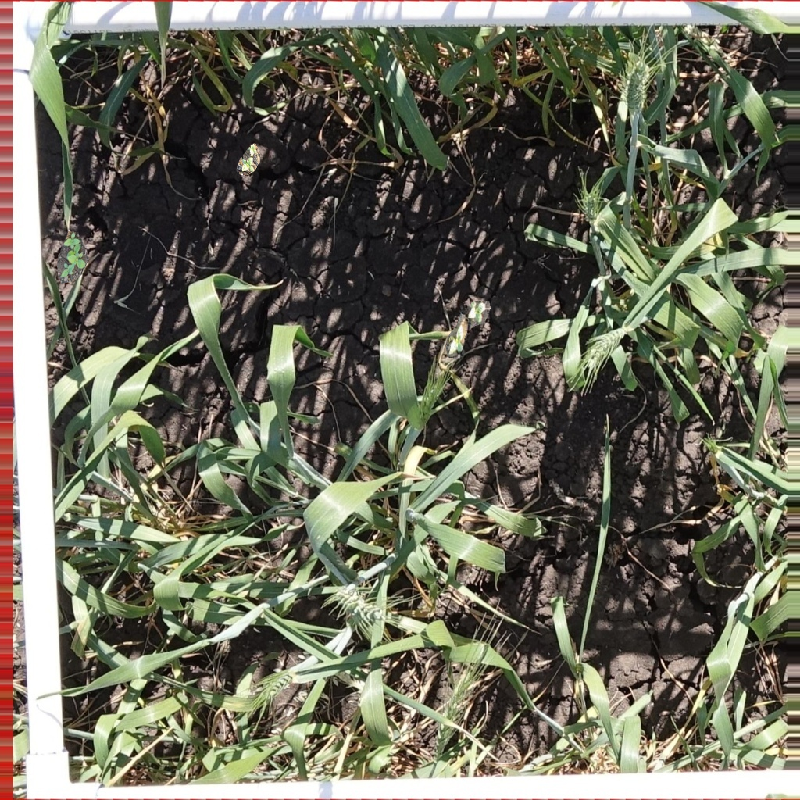spikelet: (428, 663, 482, 757), (330, 580, 385, 625), (580, 324, 627, 368), (620, 52, 652, 111), (258, 666, 295, 699), (578, 187, 603, 222)
weed: (446, 301, 491, 359), (57, 231, 89, 284), (231, 142, 266, 178)
